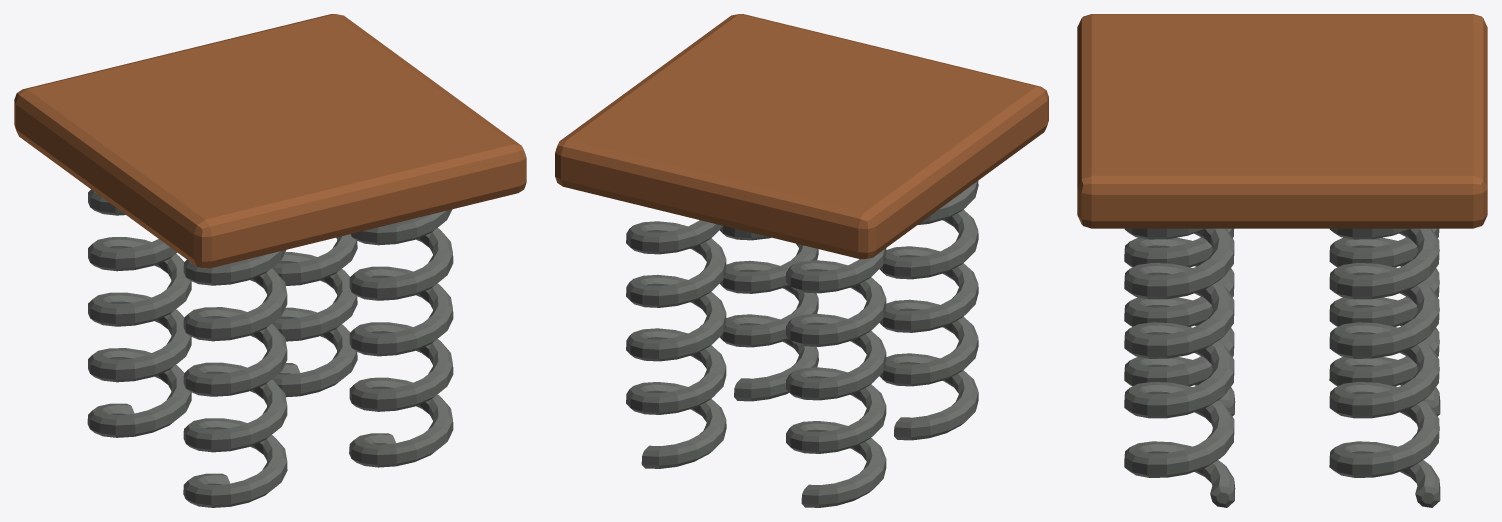
The model's file is StoolsJumper.fbx.
The picture shows the model from 3 angles, left to right: view 1: azimuth 30°, elevation 25°; view 2: azimuth 150°, elevation 25°; view 3: azimuth 270°, elevation 25°; orthographic projection. The views are drawn at different scales.
Visible parts, largest first — view 1: StoolJumper; view 2: StoolJumper; view 3: StoolJumper.
Part boxes in pixels (x1=…): StoolJumper: x1=14, y1=14, x2=526, y2=507; StoolJumper: x1=555, y1=14, x2=1048, y2=507; StoolJumper: x1=1077, y1=14, x2=1487, y2=507.
Size of the model in its own units: 100 by 100 by 98.
